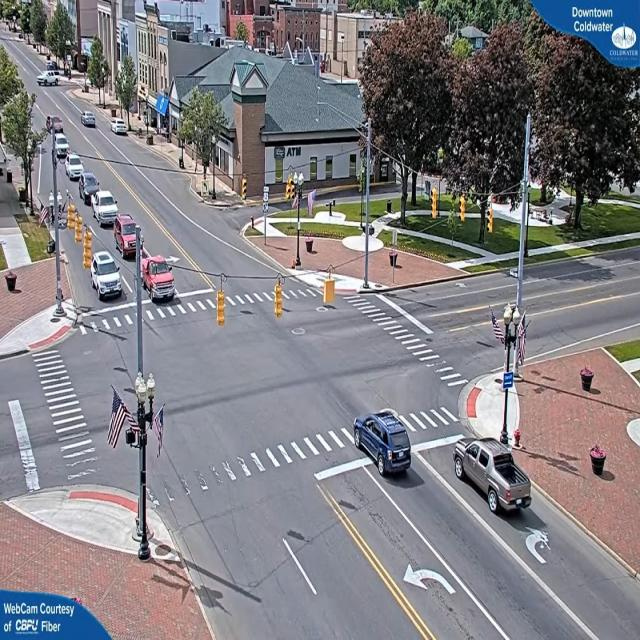car: (452, 437, 534, 513), (352, 409, 416, 480), (91, 253, 124, 302), (142, 258, 177, 302), (114, 216, 144, 260), (92, 192, 120, 229), (81, 175, 101, 199)
